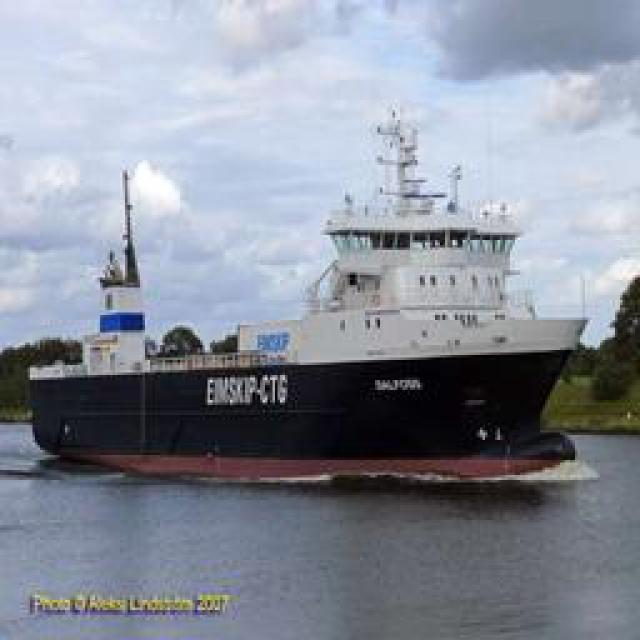Ship: (30, 75, 590, 473)
